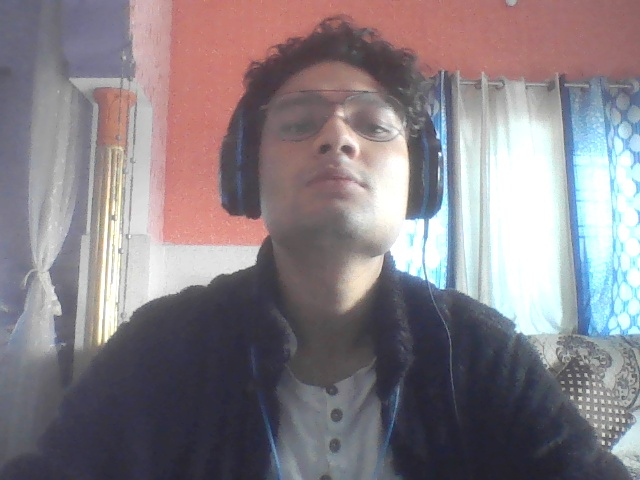real: (249, 24, 407, 248)
